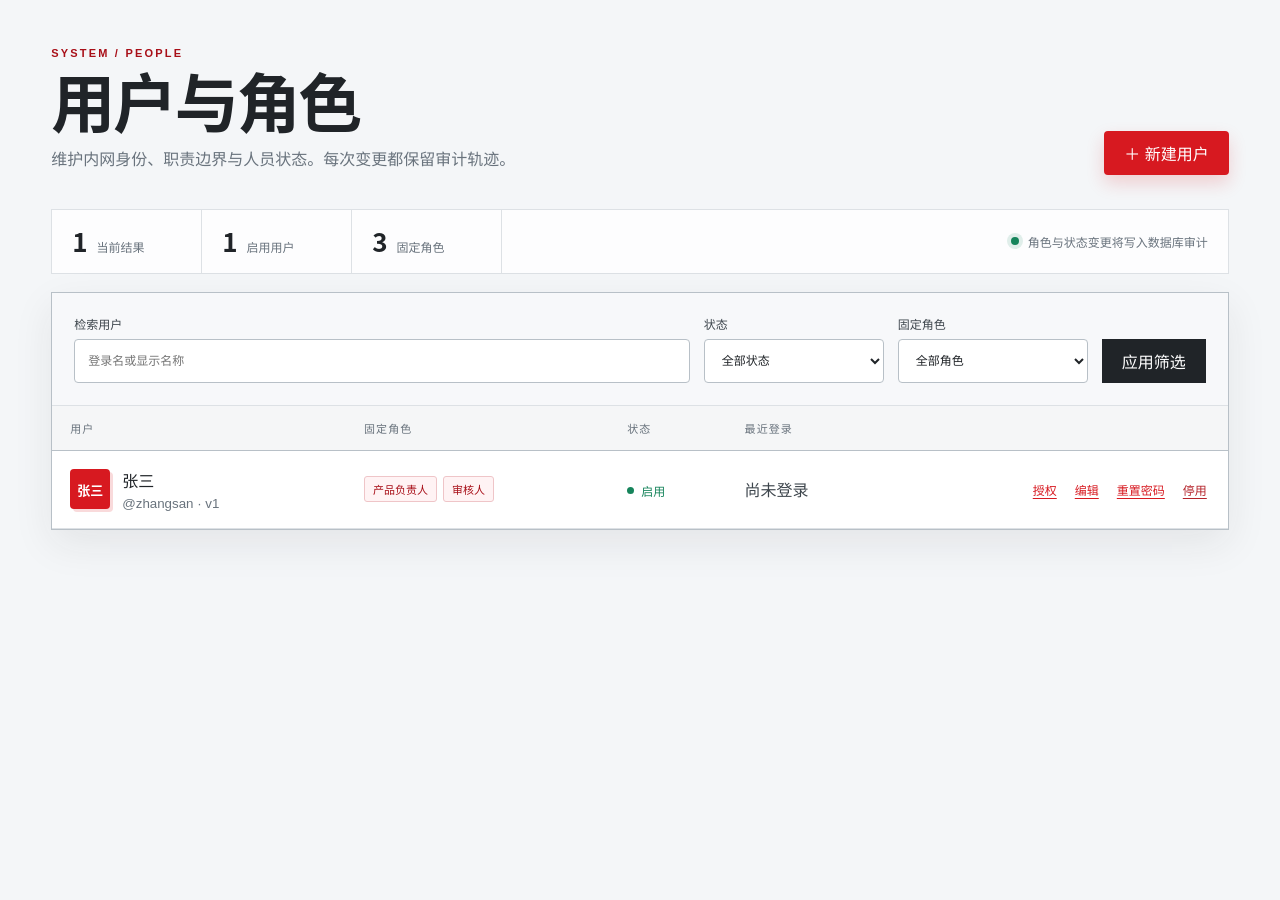
UserAdminPage › keeps edited input when the server reports a version conflict
Click the button with aria-label "编辑张三" at coordinates (1087, 489), box [1072, 478, 1102, 500]
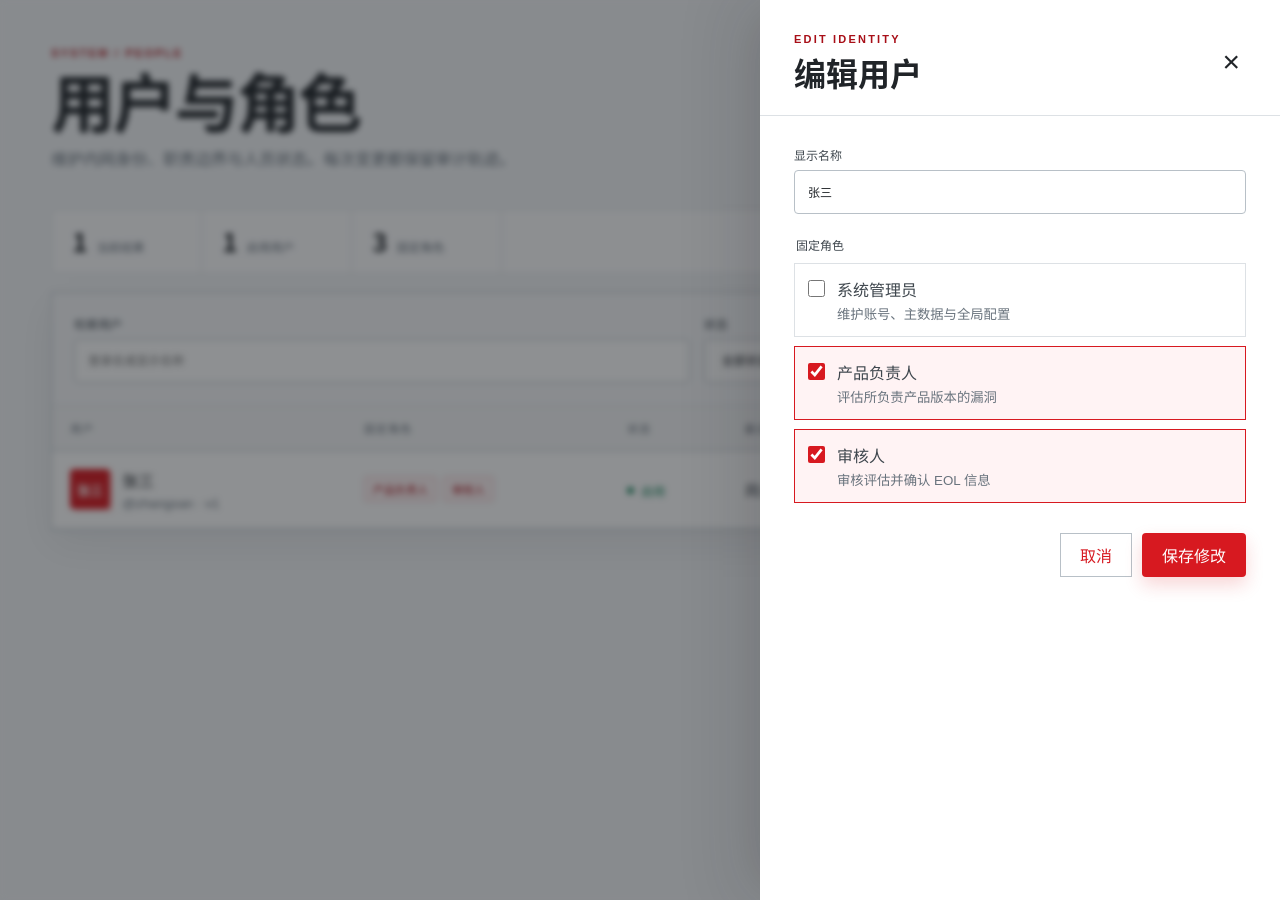
Replace the text in the field named "display_name" with "张三（待保存）" at coordinates (1020, 192), box [794, 170, 1246, 214]
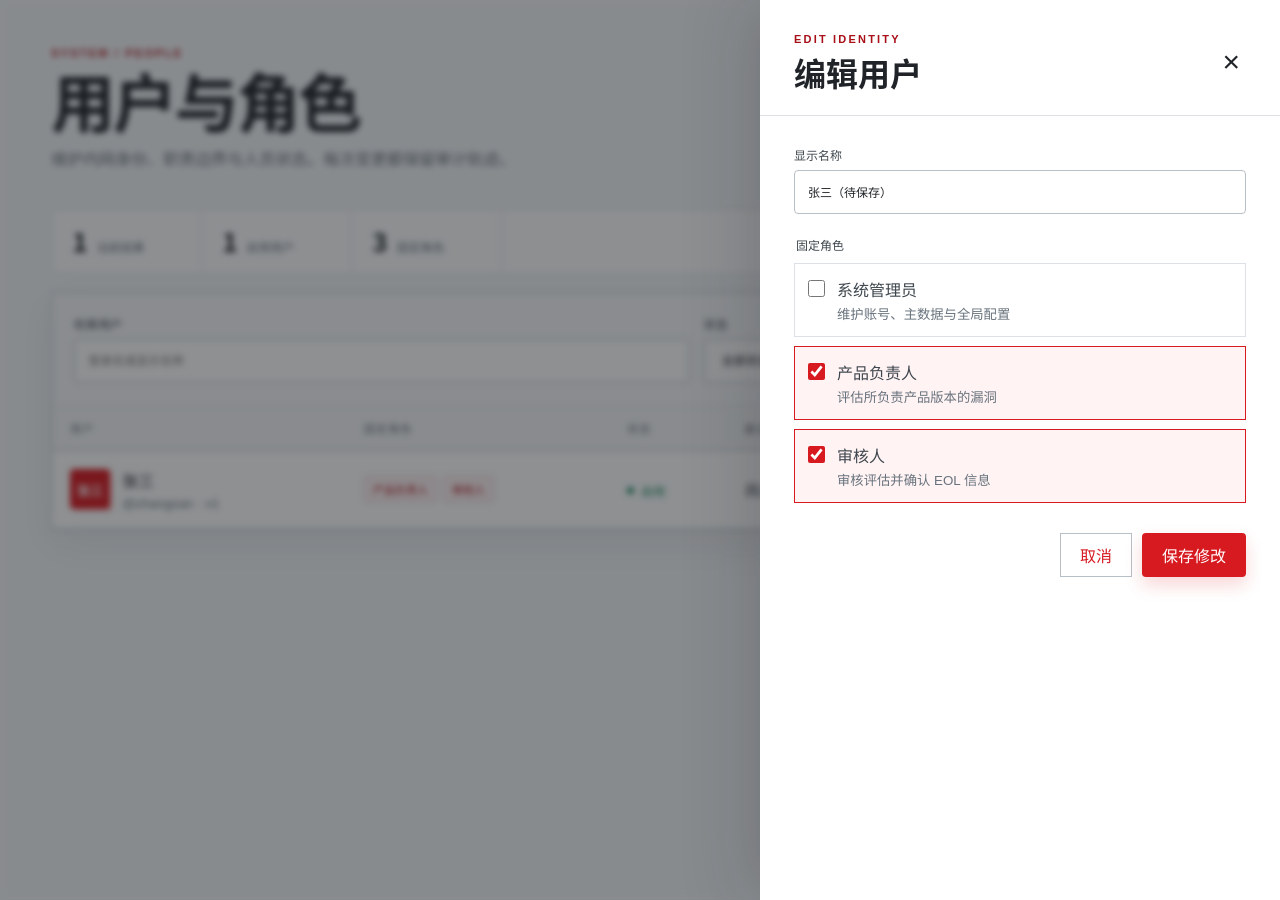
Submit the form, box [760, 116, 1279, 607]
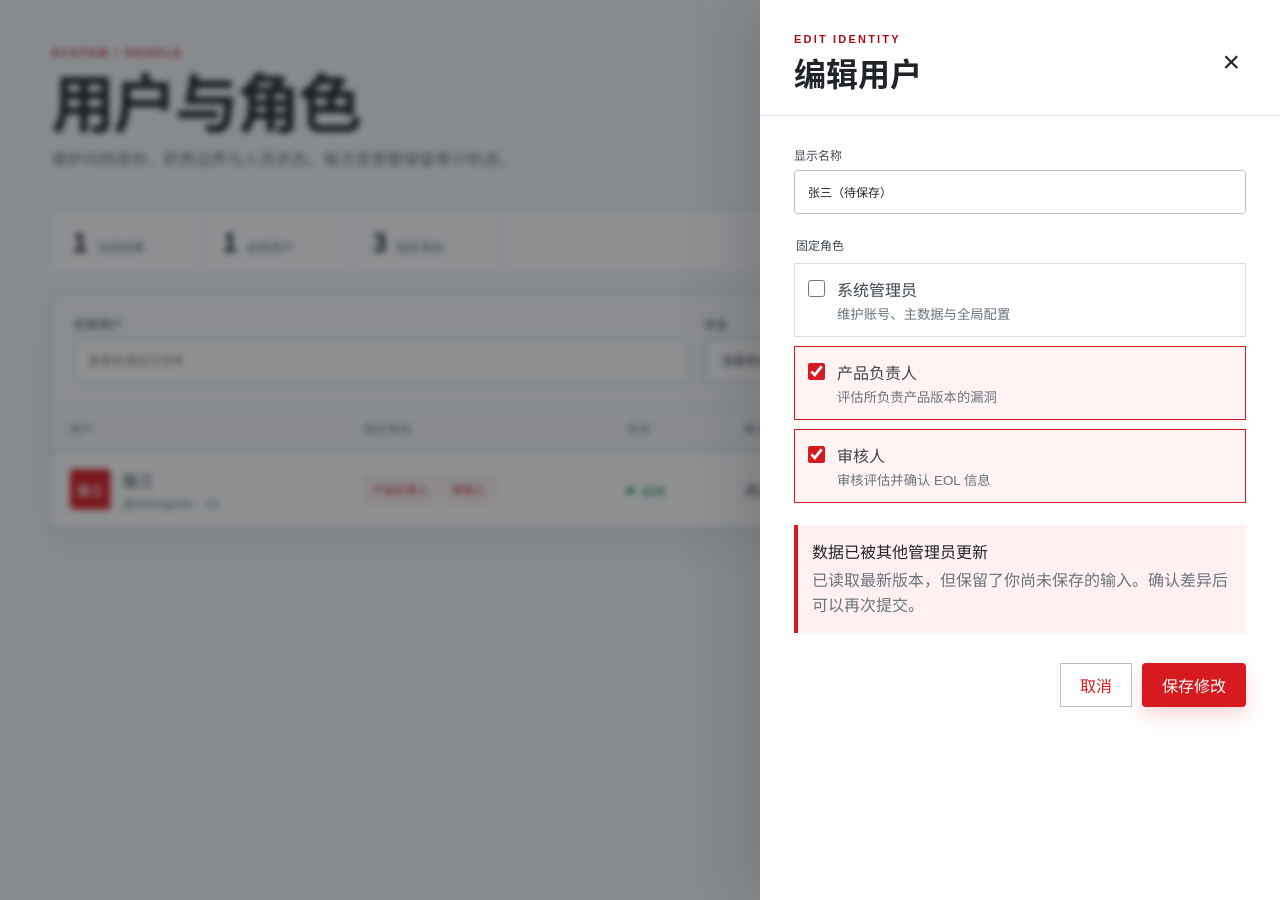
Check: the element showing "数据已被其他管理员更新 已读取最新版本，但保留了你尚未保存的输入。确认差异后可以再次提交。" is shown, box [794, 525, 1246, 633]
